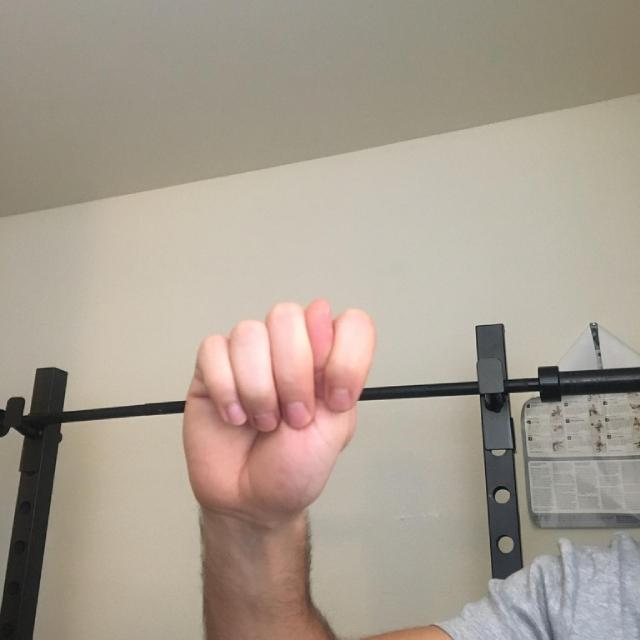T: (147, 282, 434, 523)
